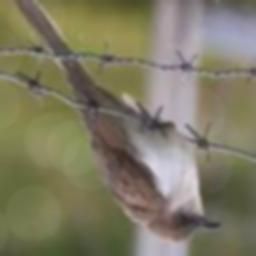Cuckoo: (0, 0, 221, 243)
